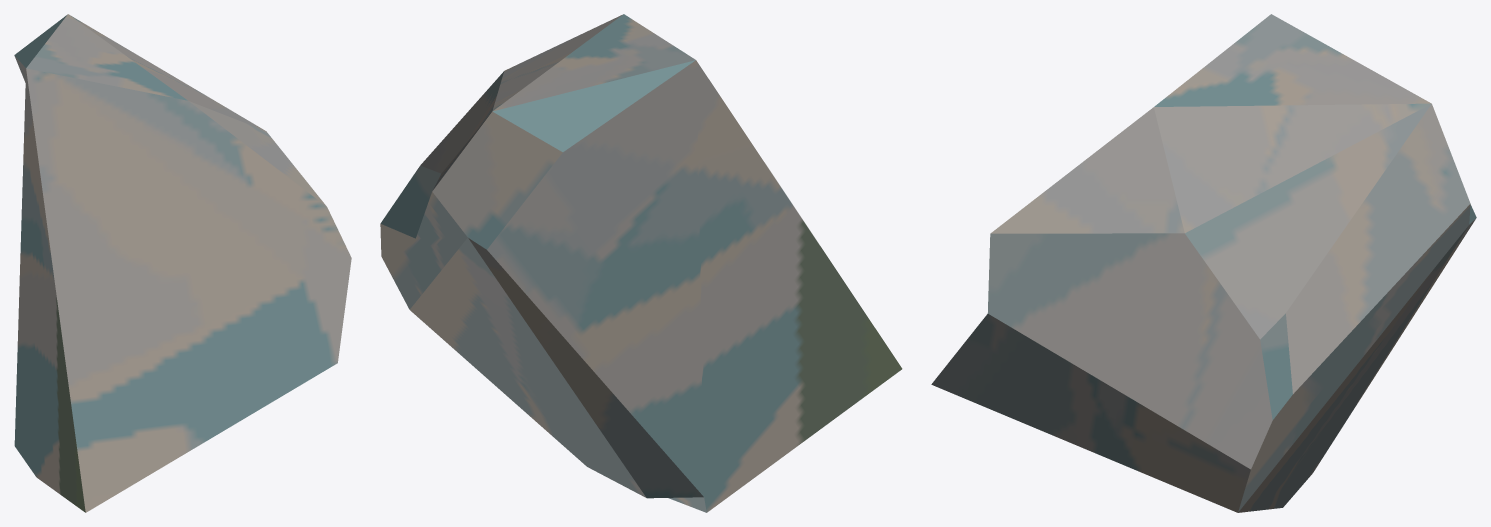
Rendered from T_ROCK08.fbx.
The picture shows the model from 3 angles, left to right: view 1: azimuth 30°, elevation 25°; view 2: azimuth 150°, elevation 25°; view 3: azimuth 270°, elevation 25°; orthographic projection. The views are drawn at different scales.
Parts seen in each view (by area): view 1: T_ROCK08.001; view 2: T_ROCK08.001; view 3: T_ROCK08.001.
Part boxes in pixels (x1,y1,x2,y2): T_ROCK08.001: (14, 14, 351, 512); T_ROCK08.001: (380, 14, 902, 512); T_ROCK08.001: (931, 14, 1476, 512).
Bounding box in the file's own units: 78.09 × 87.45 × 90.78.
Materials: 1 (1 with a texture image).
